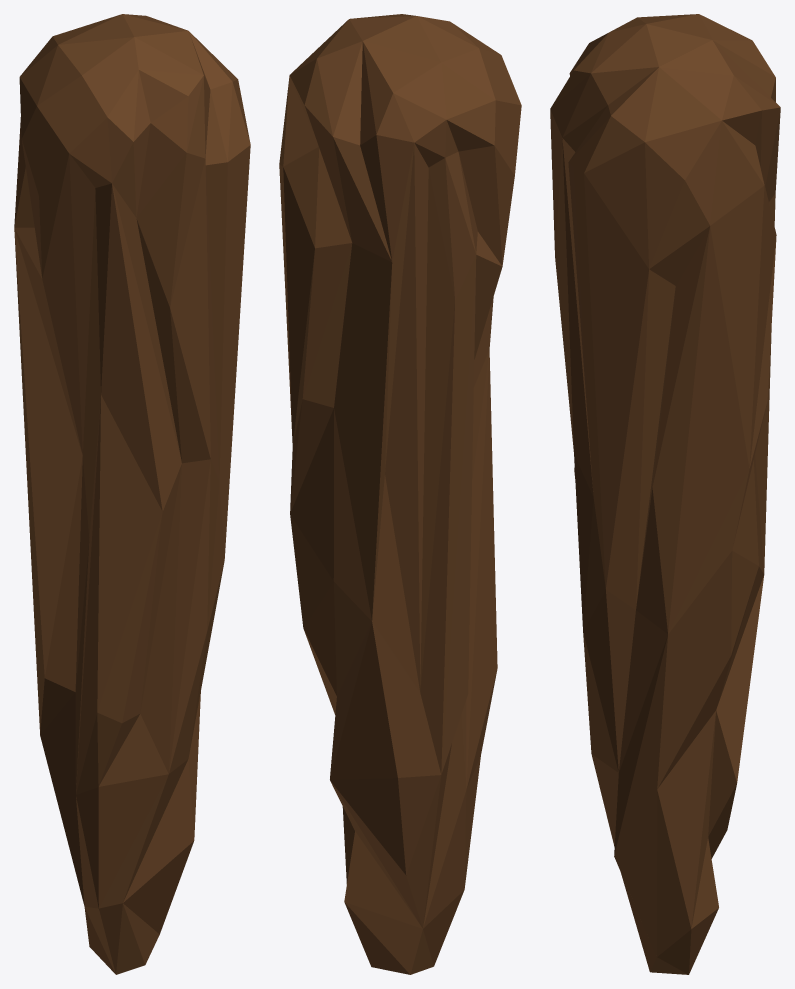
The model's file is Model_Stick 1.fbx.
The picture shows the model from 3 angles, left to right: view 1: azimuth 30°, elevation 25°; view 2: azimuth 150°, elevation 25°; view 3: azimuth 270°, elevation 25°; orthographic projection.
Parts seen in each view (by area): view 1: Cube.001; view 2: Cube.001; view 3: Cube.001.
Part boxes in pixels (box(x1,y1,x2,y2)): Cube.001: box(14, 14, 250, 974); Cube.001: box(279, 14, 521, 974); Cube.001: box(550, 14, 780, 974).
Size of the model in its own units: 159 by 695 by 154.
